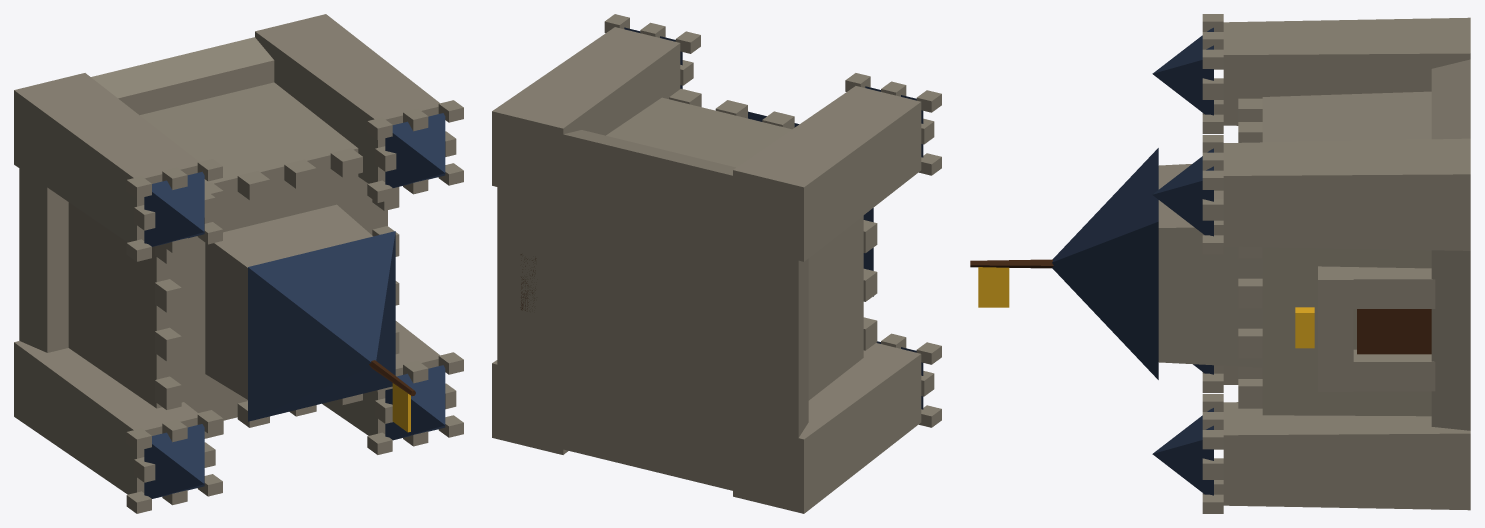
Rendered from SM_CitadelKeep.obj.
3 views of the same model, side by side, from view 1: azimuth 30°, elevation 25°; view 2: azimuth 150°, elevation 25°; view 3: azimuth 270°, elevation 25° (orthographic). The views are drawn at different scales.
Visible parts, largest first — view 1: SM_CitadelKeep; view 2: SM_CitadelKeep; view 3: SM_CitadelKeep.
Part boxes in pixels (box(x1,y1,x2,y2)): SM_CitadelKeep: box(14, 14, 463, 513); SM_CitadelKeep: box(492, 14, 941, 513); SM_CitadelKeep: box(970, 14, 1470, 513).
Size of the model in its own units: 1195 by 1140 by 1540.
